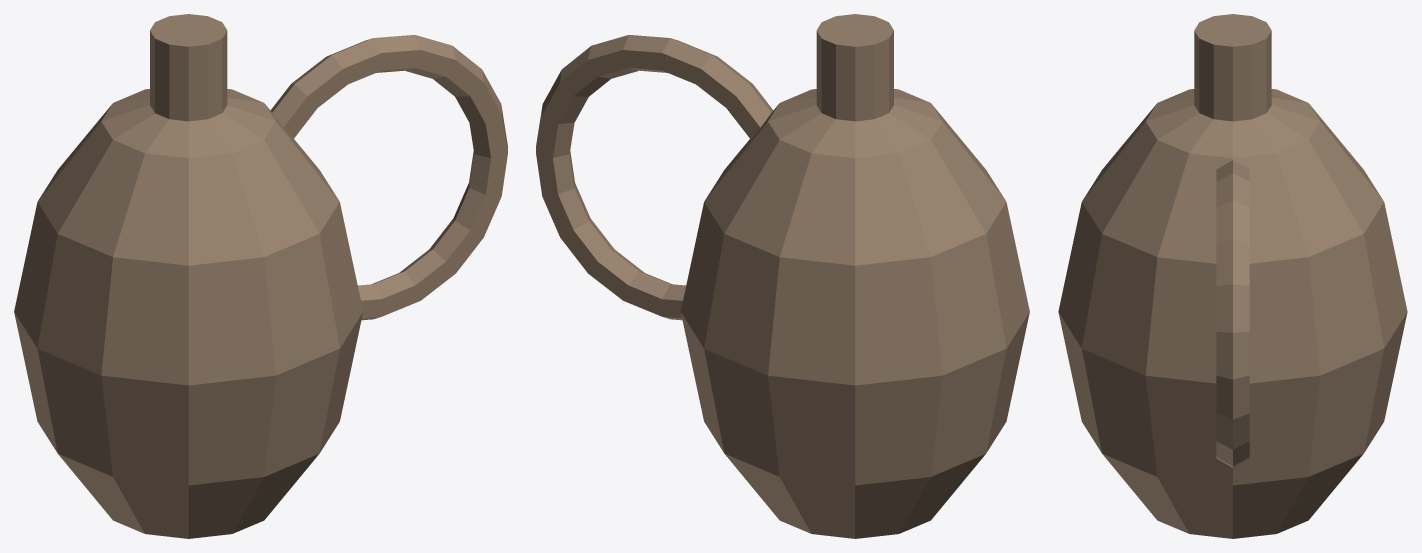
The model's file is PR-JUG.glb.
3 renders of one model, left to right at view 1: azimuth 30°, elevation 25°; view 2: azimuth 150°, elevation 25°; view 3: azimuth 270°, elevation 25°, orthographic.
Visible parts, largest first — view 1: vessel, handle, neck; view 2: vessel, handle, neck; view 3: vessel, handle, neck.
Part boxes in pixels (x1,y1,x2,y2): vessel: (14,89,363,538); handle: (270,35,507,320); neck: (150,14,227,121); vessel: (680,89,1029,538); handle: (536,35,773,320); neck: (816,14,893,121); vessel: (1058,89,1407,538); handle: (1216,160,1249,467); neck: (1194,14,1271,121).
Size of the model in its own units: 0.28 by 0.285 by 0.18.
